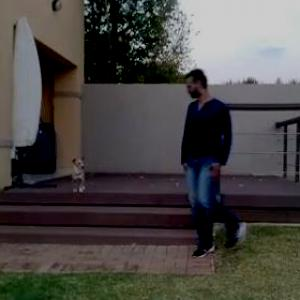follow: (182, 68, 235, 236)
